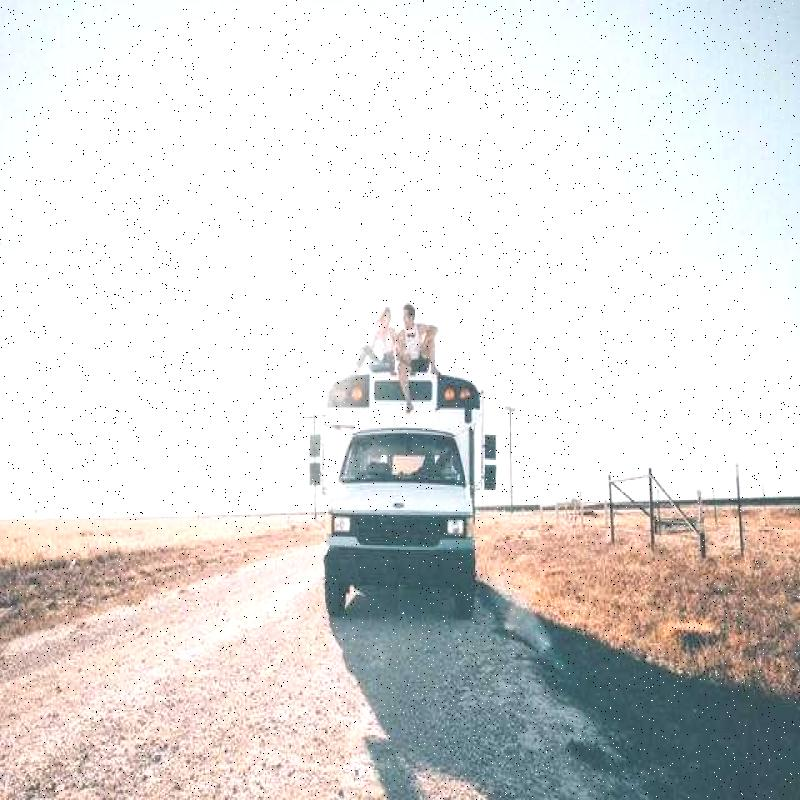bus: (290, 312, 503, 634)
